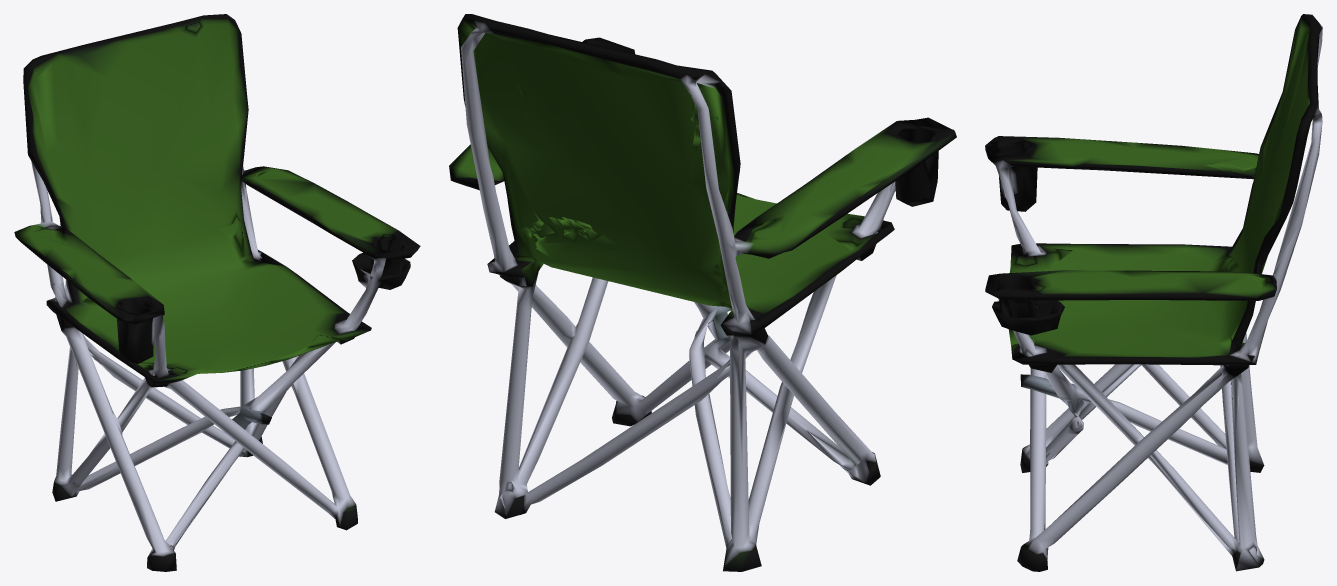
Rendered from gen3d-camping-chair-lod0.glb.
3 renders of one model, left to right at view 1: azimuth 30°, elevation 25°; view 2: azimuth 150°, elevation 25°; view 3: azimuth 270°, elevation 25°, orthographic. The views are drawn at different scales.
Parts seen in each view (by area): view 1: part_0; view 2: part_0; view 3: part_0.
Part boxes in pixels (x1=…): part_0: x1=14, y1=14, x2=420, y2=571; part_0: x1=449, y1=14, x2=956, y2=571; part_0: x1=985, y1=14, x2=1322, y2=571.
Size of the model in its own units: 0.7501 by 0.999 by 0.6733.
